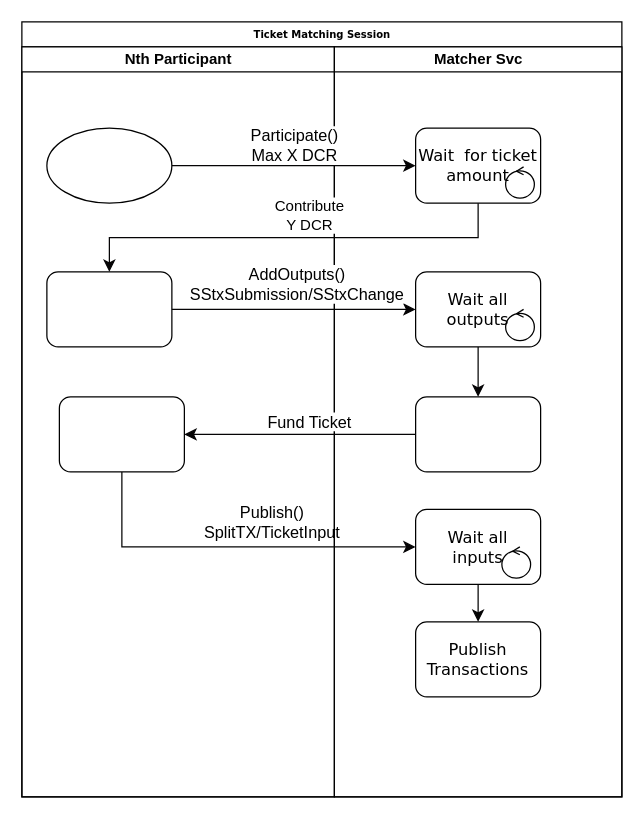
Some shapes in this 644 by 819 pixel diagram are drawn without their labels. Each missing label, with the centre of its shape:
Generate Split Tx/Sign Ticket: (x=121, y=434)
Generate Ticket: (x=477, y=434)
Generate Ticket Outputs: (x=109, y=309)
Start: (x=109, y=165)
